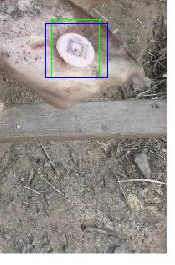text: (51, 19, 99, 77)
